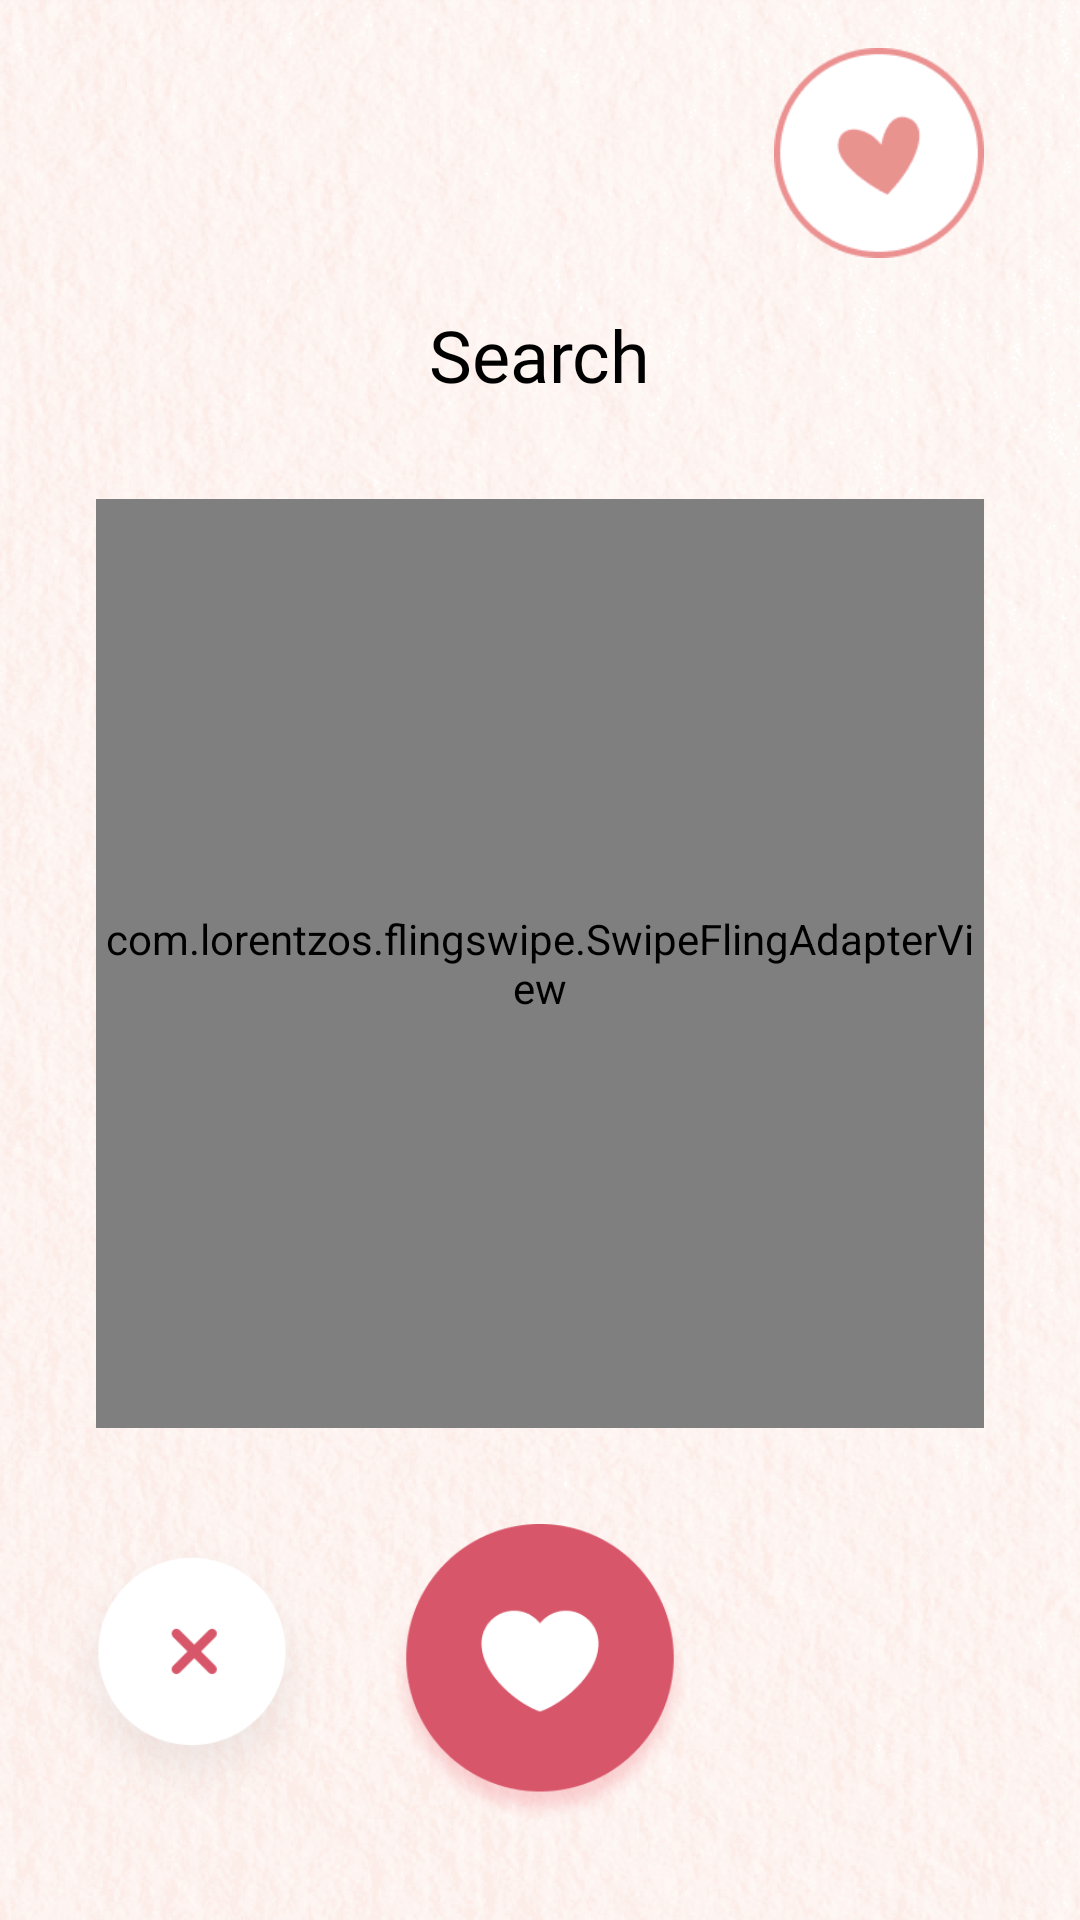

Icons on this 1080 x 1920 Android screen, each with its box as (x1, y1, x2, y2):
dislike: (171, 1629, 217, 1674)
favs: (774, 48, 984, 258)
like: (406, 1524, 674, 1806)
